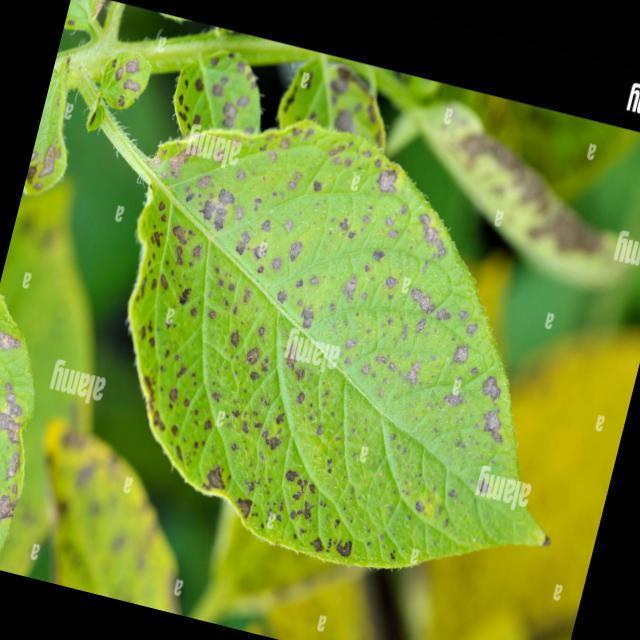Septoria: (61, 100, 586, 606), (0, 281, 68, 569), (89, 37, 161, 121)
